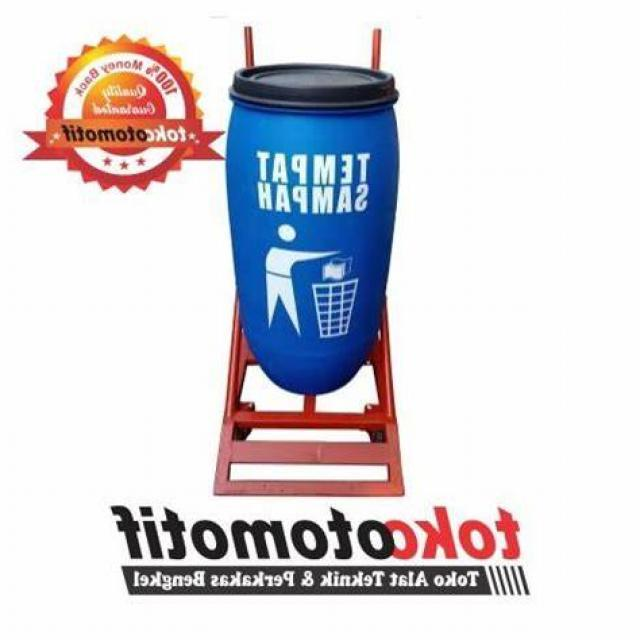garbage container: (215, 28, 409, 392)
